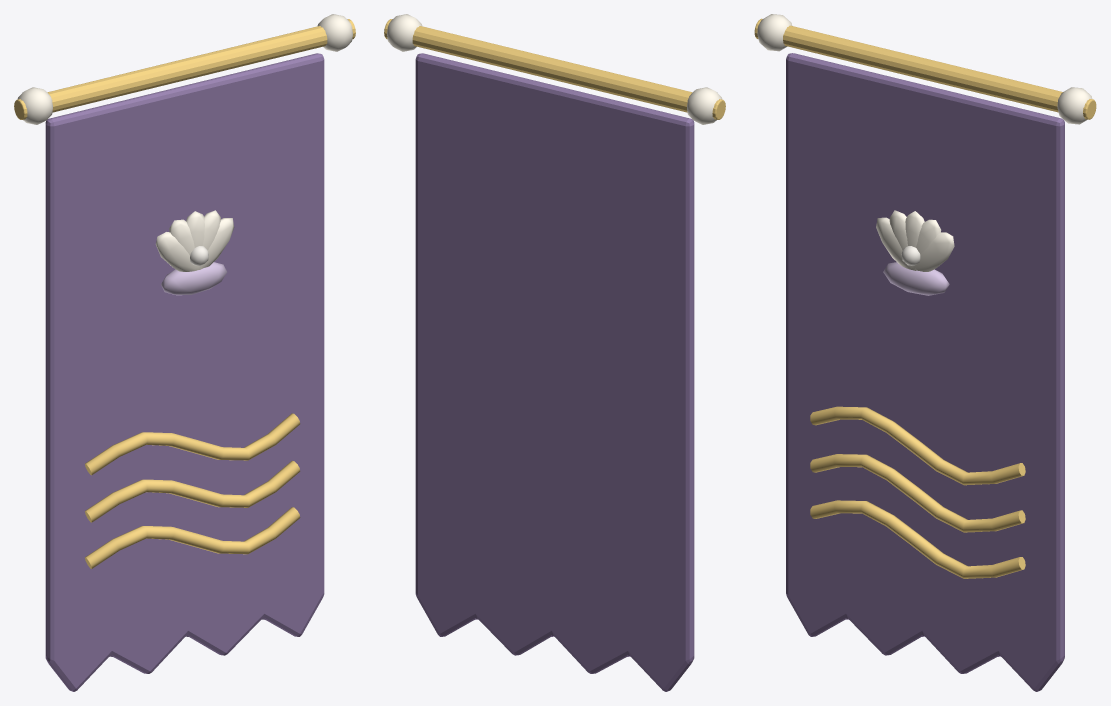
The model's file is pearl_shell_banner_a.glb.
3 renders of one model, left to right at view 1: azimuth 30°, elevation 25°; view 2: azimuth 150°, elevation 25°; view 3: azimuth 330°, elevation 25°, orthographic.
Parts seen in each view (by area): view 1: pearl_shell_banner_a.001; view 2: pearl_shell_banner_a.001; view 3: pearl_shell_banner_a.001.
Part boxes in pixels (x1=…): pearl_shell_banner_a.001: x1=14, y1=14, x2=355, y2=691; pearl_shell_banner_a.001: x1=384, y1=14, x2=725, y2=691; pearl_shell_banner_a.001: x1=754, y1=14, x2=1096, y2=691.
Size of the model in its own units: 7.2 by 12.68 by 1.07.
